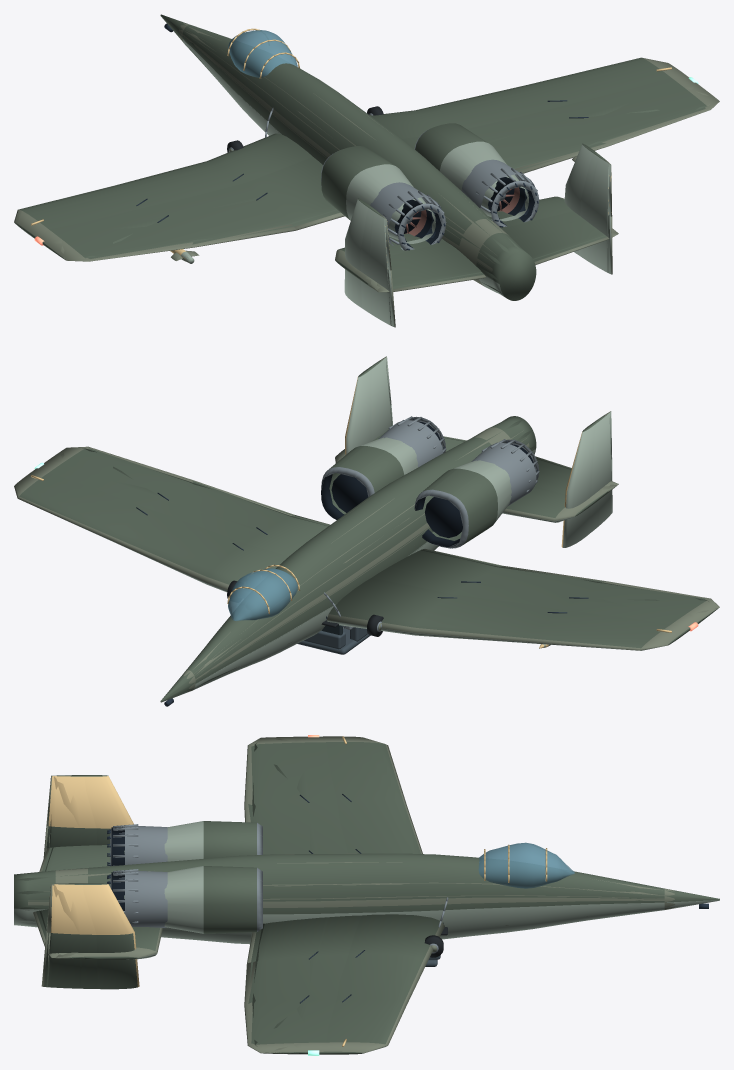
3 renders of one model, top to bottom at view 1: azimuth 30°, elevation 25°; view 2: azimuth 150°, elevation 25°; view 3: azimuth 270°, elevation 25°, orthographic.
Parts seen in each view (by area): view 1: Airframe shell mesh, Airframe shell.001 mesh, Airframe shell.002 mesh, Canopy glass, Canopy glass.001, Hinged Aileron, Hinged Aileron.001, Canopy glass.002; view 2: Airframe shell mesh, Airframe shell.001 mesh, Airframe shell.002 mesh, Canopy glass, Canopy glass.001, Cockpit shell mesh, Canopy glass.002, Hinged Aileron.001; view 3: Airframe shell mesh, Airframe shell.001 mesh, Airframe shell.002 mesh, Canopy glass, Canopy glass.001, Canopy glass.002, Hinged Aileron.001, Hinged Aileron.
Boxes of the visible parts, left/top/right/bottom form: Airframe shell mesh: left=14, top=23, right=698, bottom=327; Airframe shell.001 mesh: left=14, top=23, right=719, bottom=326; Airframe shell.002 mesh: left=15, top=14, right=716, bottom=325; Canopy glass: left=228, top=30, right=297, bottom=77; Canopy glass.001: left=228, top=30, right=297, bottom=77; Hinged Aileron: left=66, top=224, right=295, bottom=261; Hinged Aileron.001: left=514, top=100, right=719, bottom=173; Canopy glass.002: left=229, top=32, right=296, bottom=74; Airframe shell mesh: left=14, top=369, right=698, bottom=706; Airframe shell.001 mesh: left=39, top=357, right=718, bottom=702; Airframe shell.002 mesh: left=46, top=358, right=717, bottom=701; Canopy glass: left=228, top=568, right=297, bottom=620; Canopy glass.001: left=228, top=568, right=297, bottom=619; Cockpit shell mesh: left=297, top=592, right=370, bottom=654; Canopy glass.002: left=228, top=569, right=296, bottom=620; Hinged Aileron.001: left=66, top=446, right=294, bottom=515; Airframe shell mesh: left=14, top=735, right=719, bottom=1055; Airframe shell.001 mesh: left=14, top=736, right=674, bottom=1054; Airframe shell.002 mesh: left=14, top=736, right=719, bottom=1053; Canopy glass: left=478, top=842, right=573, bottom=888; Canopy glass.001: left=478, top=843, right=569, bottom=888; Canopy glass.002: left=479, top=843, right=574, bottom=887; Hinged Aileron.001: left=244, top=961, right=283, bottom=1053; Hinged Aileron: left=244, top=737, right=262, bottom=822.
Bounding box in the file's own units: 17.66 × 3.08 × 16.59.
